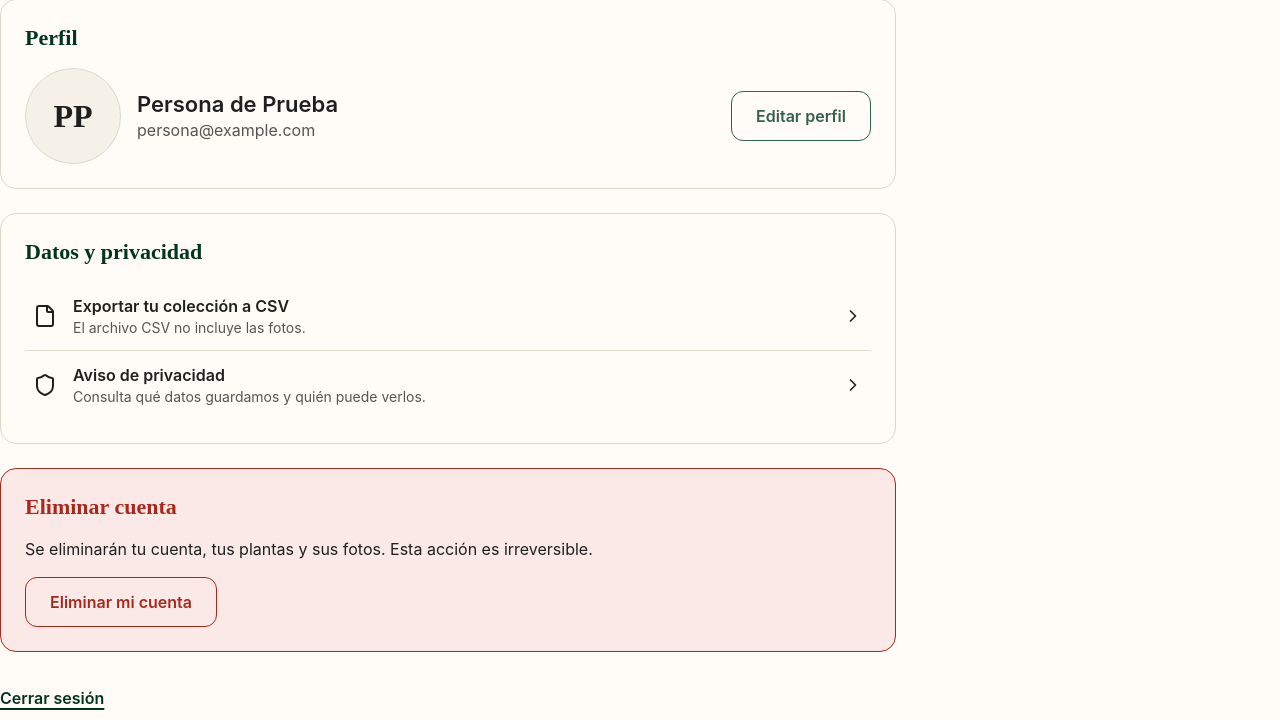
Scenario: eliminar la cuenta no deja nada del usuario en el dispositivo › borra la copia, las miniaturas, el usuario recordado, la cola de eventos, el borrador y las preferencias
The width and height of the screenshot is (1280, 720).
(page scrolled)
Click the button "Eliminar mi cuenta" at [121, 602], box [25,577,217,627]
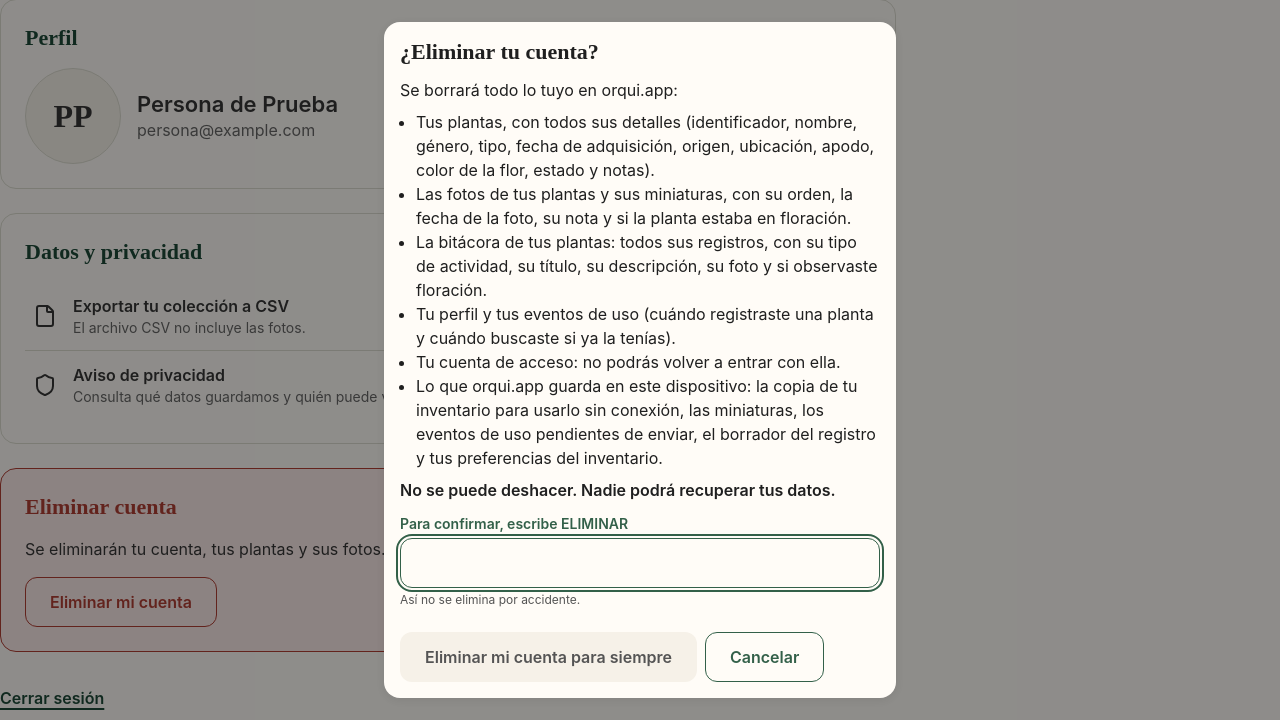
Type "ELIMINAR" into the field labelled "Para confirmar, escribe ELIMINAR" at [640, 563], box [400,538,880,588]
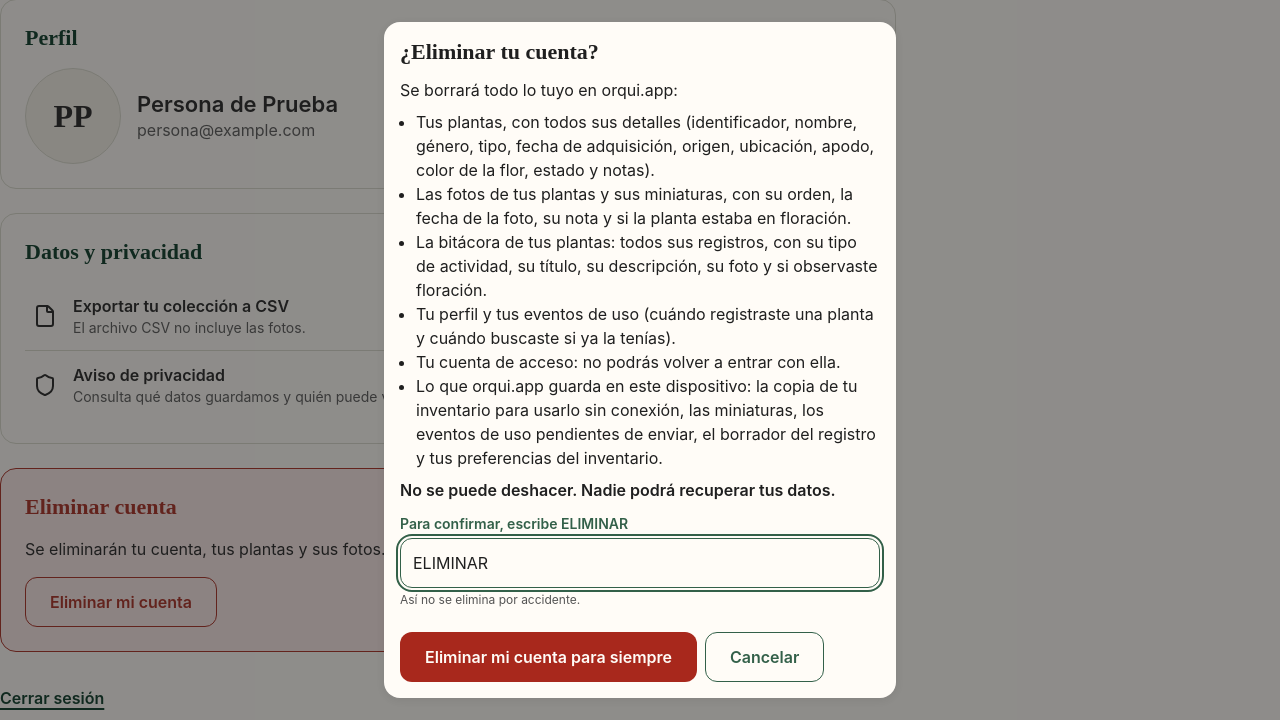
Click the button "Eliminar mi cuenta para siempre" at [548, 657], box [400,632,697,682]
(page scrolled)
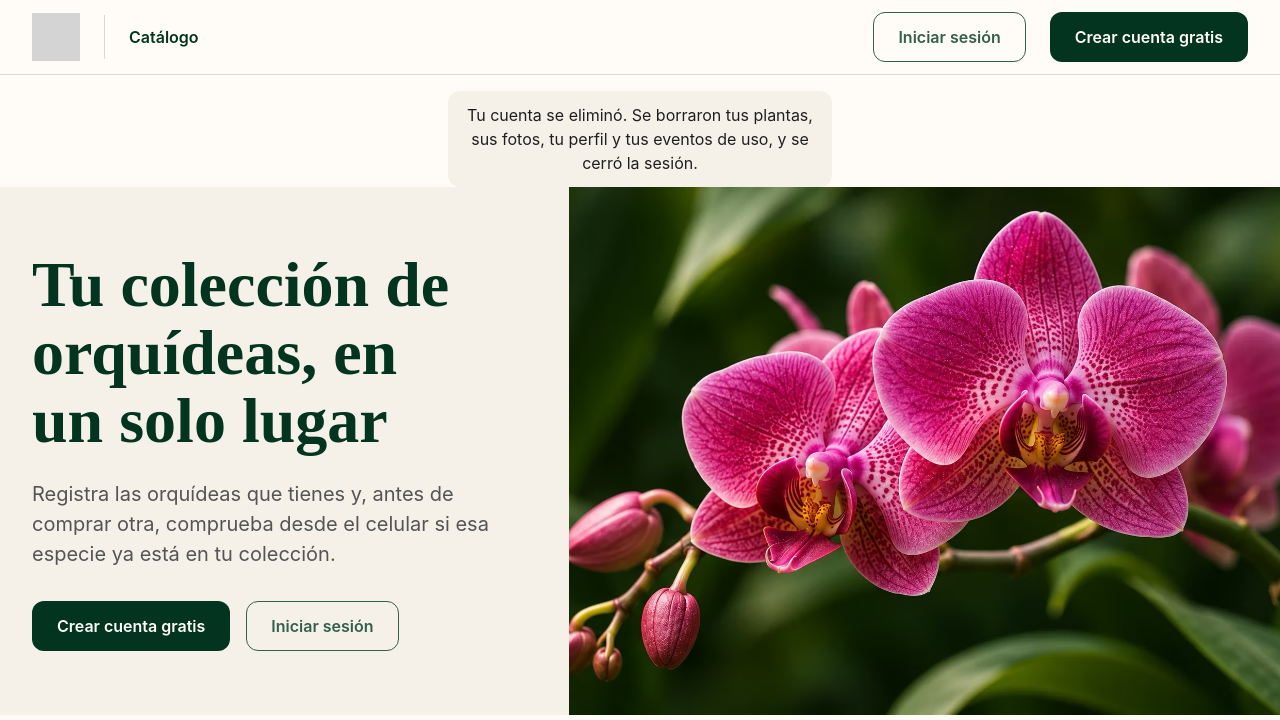
Result: the text "Tu cuenta se eliminó" is shown at [467,105,813,173]
